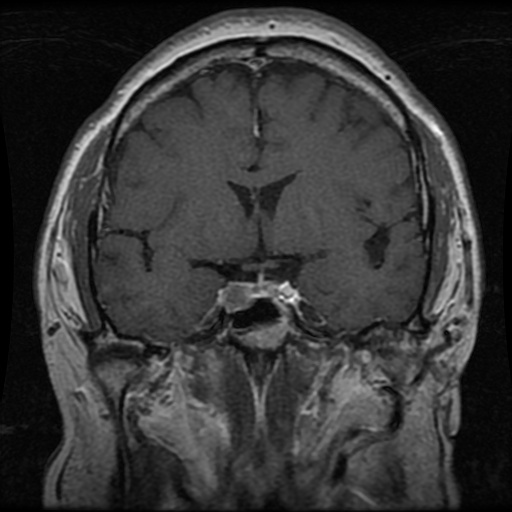pituitary: (219, 281, 279, 313)
